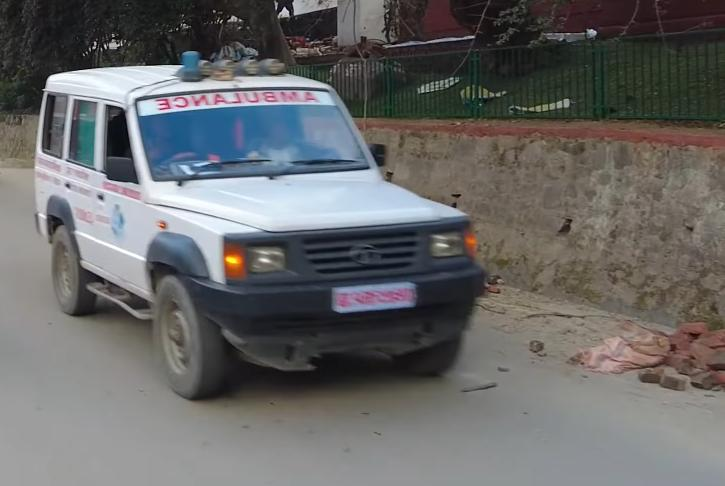ambulance: (29, 46, 501, 409)
